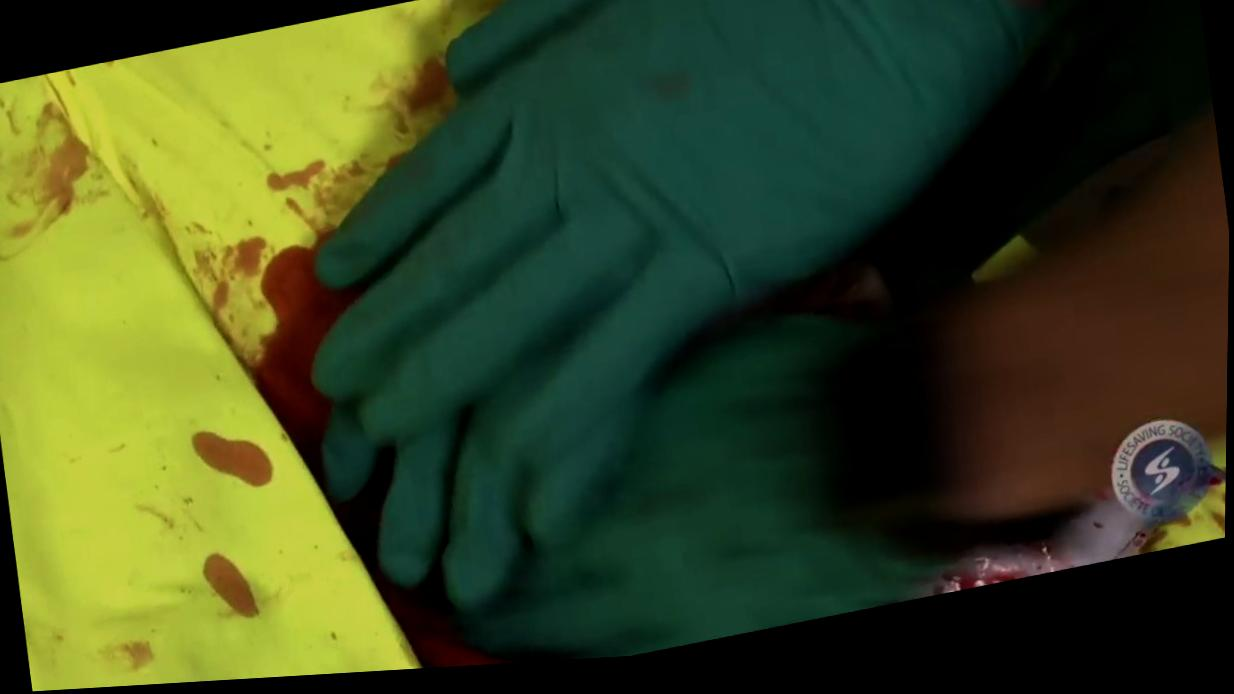Fire: (336, 470, 518, 674), (248, 249, 359, 478), (193, 433, 273, 489), (205, 558, 257, 619), (45, 134, 87, 198), (235, 239, 267, 278)
